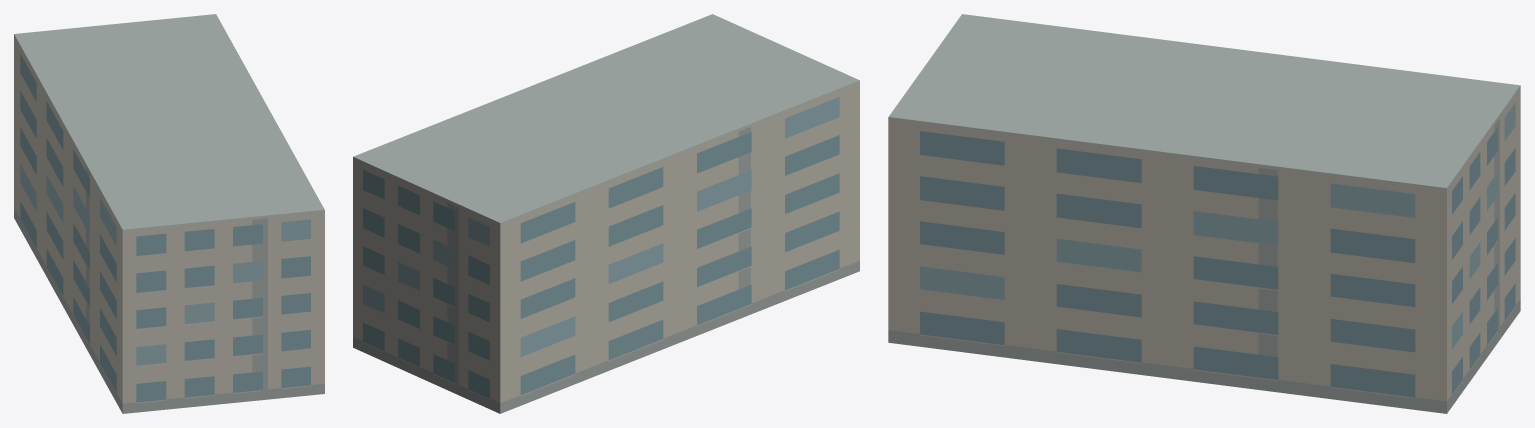
File: residential-588f2a4e-f645-4458-bf44-a195ef5f14c6.glb
3 views of the same model, side by side, from view 1: azimuth 30°, elevation 25°; view 2: azimuth 150°, elevation 25°; view 3: azimuth 270°, elevation 25° (orthographic). The views are drawn at different scales.
Parts seen in each view (by area): view 1: residential-588f2a4e-f645-4458-bf44-a195ef5f14c6.tmp; view 2: residential-588f2a4e-f645-4458-bf44-a195ef5f14c6.tmp; view 3: residential-588f2a4e-f645-4458-bf44-a195ef5f14c6.tmp.
Part boxes in pixels (x1,y1,x2,y2): residential-588f2a4e-f645-4458-bf44-a195ef5f14c6.tmp: (14, 14, 324, 413); residential-588f2a4e-f645-4458-bf44-a195ef5f14c6.tmp: (353, 14, 859, 413); residential-588f2a4e-f645-4458-bf44-a195ef5f14c6.tmp: (888, 14, 1520, 413).
Size of the model in its own units: 25.24 by 15.25 by 38.71.
